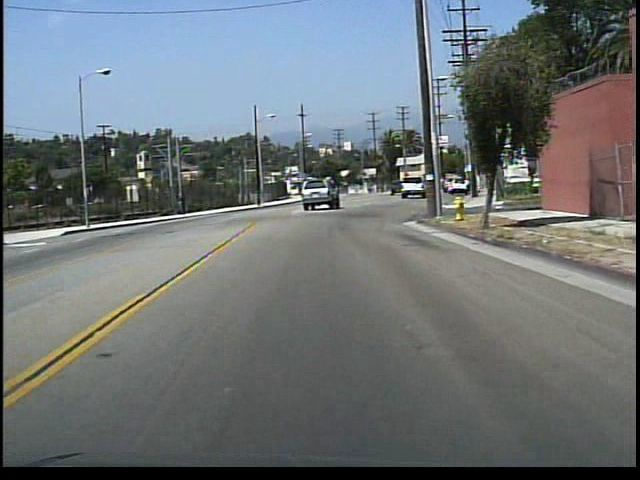person: (181, 191, 190, 215)
